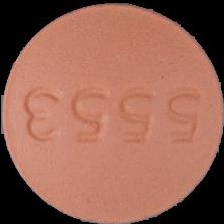54868-0191: (0, 0, 224, 224)
